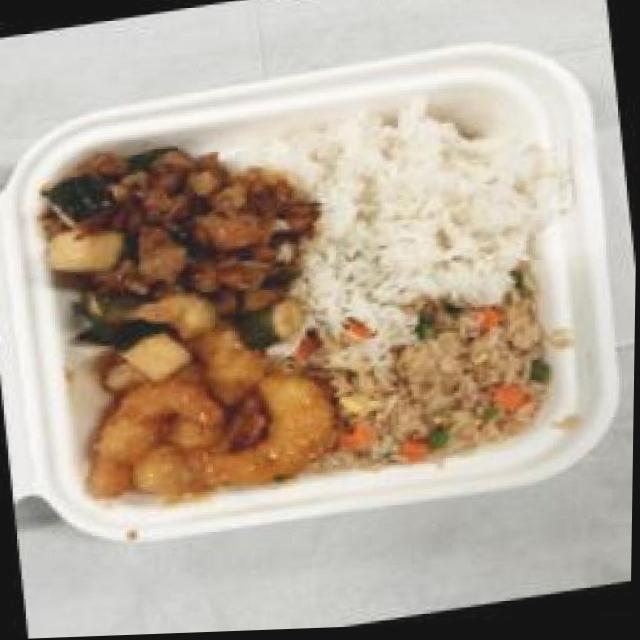Fried Rice: (319, 276, 580, 489)
Honey Walnut Shrimp: (64, 300, 349, 528)
Kung Pao Chicken: (26, 124, 316, 345)
White Steamed Rice: (291, 89, 564, 319)
